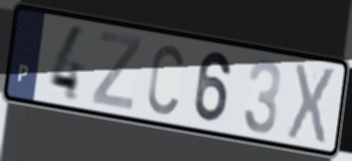3: (243, 57, 283, 135)
4: (44, 22, 86, 105)
6: (193, 49, 235, 126)
C: (145, 41, 186, 118)
X: (284, 60, 338, 149)
Z: (89, 29, 144, 113)
